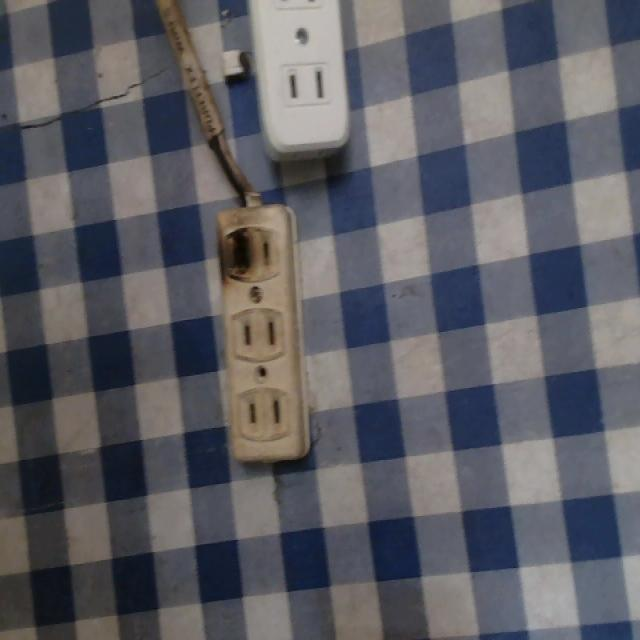-: (212, 219, 261, 284)
